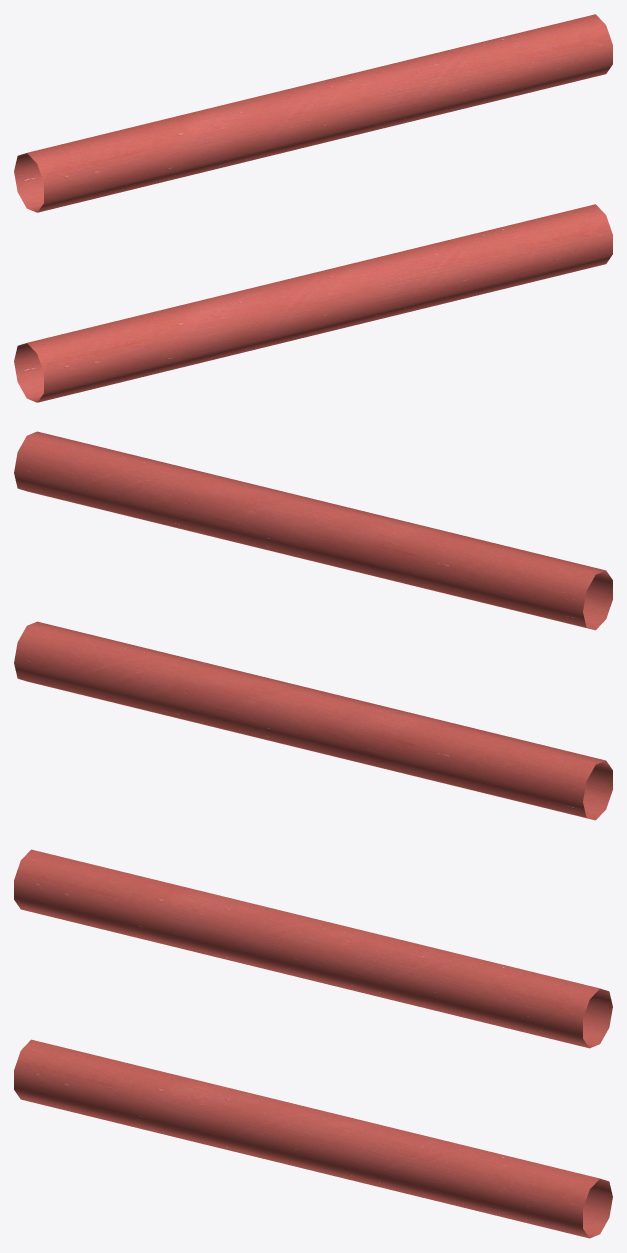
The model's file is CubeBaseFrontBarM.fbx.
3 renders of one model, top to bottom at view 1: azimuth 30°, elevation 25°; view 2: azimuth 150°, elevation 25°; view 3: azimuth 330°, elevation 25°, orthographic.
Parts seen in each view (by area): view 1: polySurface2; view 2: polySurface2; view 3: polySurface2.
Part boxes in pixels (x1,y1,x2,y2): polySurface2: [14, 14, 612, 402]; polySurface2: [14, 431, 612, 820]; polySurface2: [14, 849, 612, 1238].
Bounding box in the file's own units: 1.06 × 0.4372 × 0.0974.
Materials: 1 (1 with a texture image).
